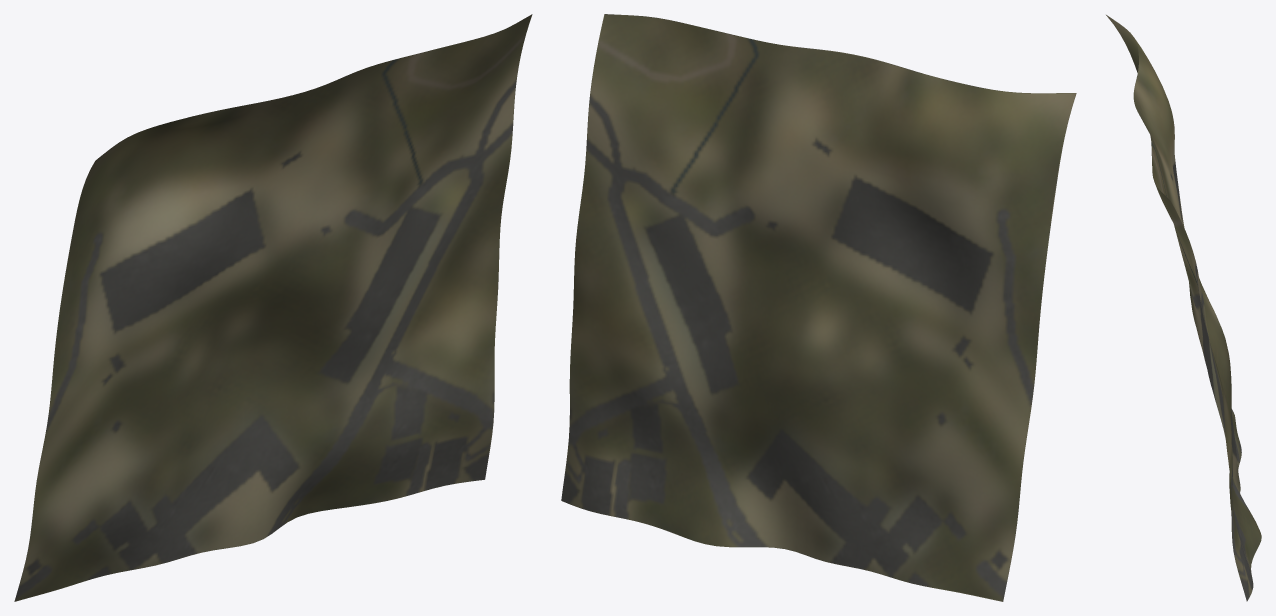
File: ground_mid_07_08.obj
The picture shows the model from 3 angles, left to right: view 1: azimuth 30°, elevation 25°; view 2: azimuth 150°, elevation 25°; view 3: azimuth 270°, elevation 25°; orthographic projection. The views are drawn at different scales.
Parts seen in each view (by area): view 1: ground_mid_07_08; view 2: ground_mid_07_08; view 3: ground_mid_07_08.
Part boxes in pixels (box(x1,y1,x2,y2)): ground_mid_07_08: box(14, 14, 532, 601); ground_mid_07_08: box(561, 14, 1076, 601); ground_mid_07_08: box(1106, 15, 1261, 601).
Size of the model in its own units: 200 by 200 by 70.81.
Materials: 1 (1 with a texture image).
